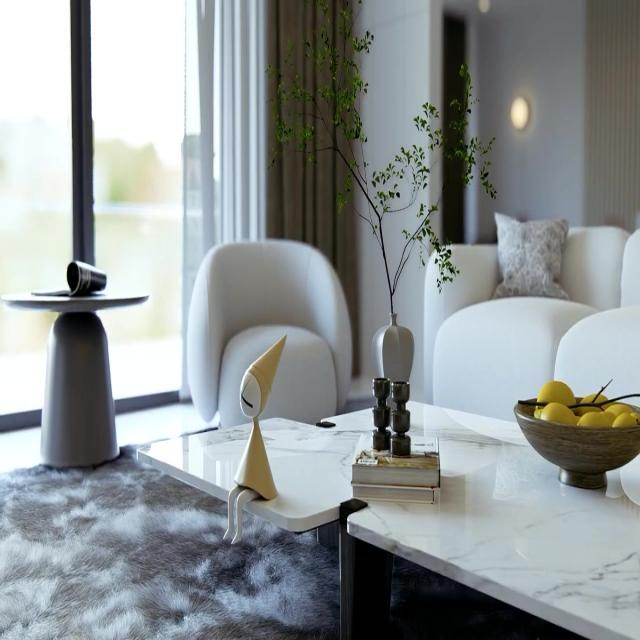obstacle: (136, 399, 640, 638), (423, 222, 639, 423), (186, 237, 354, 428), (1, 289, 149, 468)
